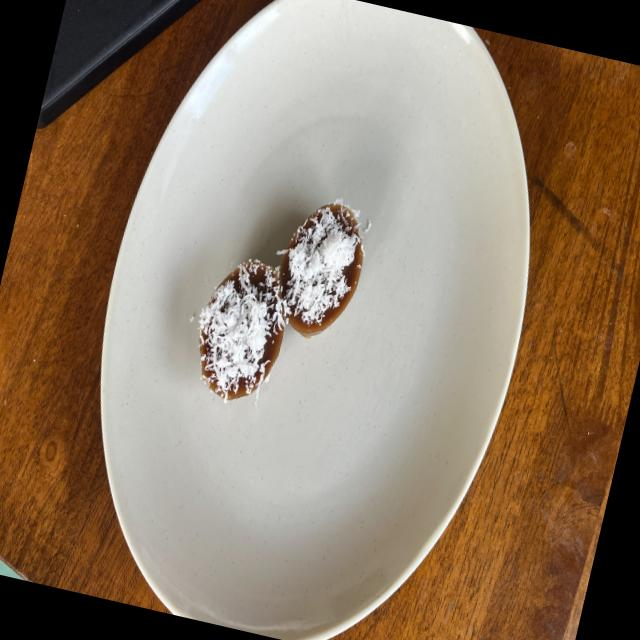Kuih lompang: (198, 259, 284, 400), (278, 201, 364, 337)
